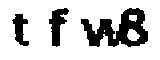8: (121, 5, 151, 47)
f: (41, 5, 72, 53)
t: (12, 13, 32, 49)
w: (74, 16, 123, 49)
